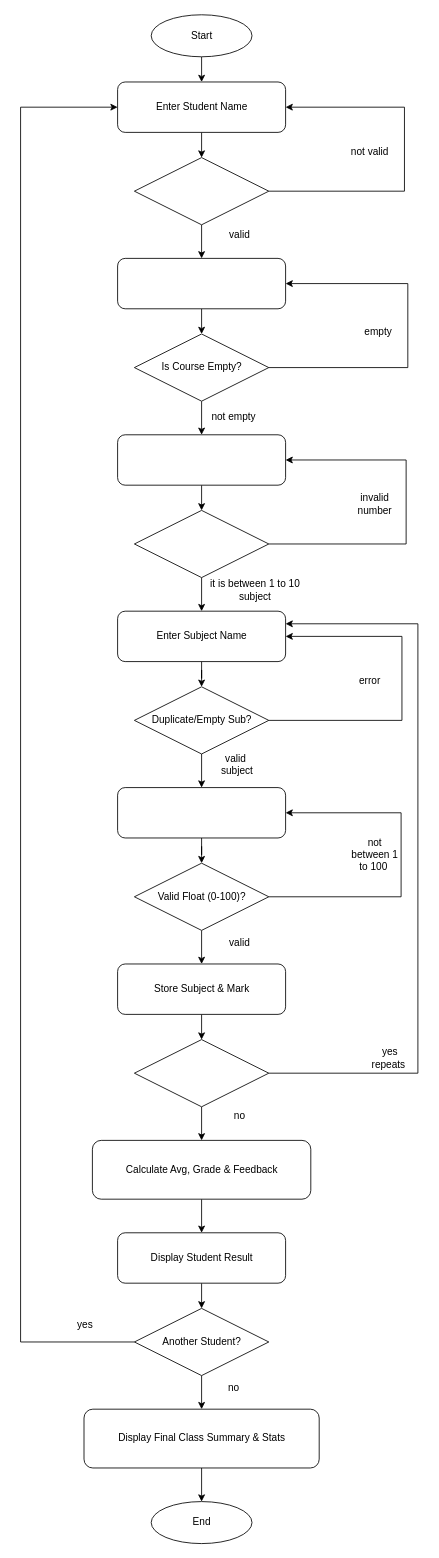
Some shapes in this 439 by 1558 pixel diagram are drawn without their labels. The shapes that lost their labels are listed below. From the top down, each one's centre as x and y in pixels, then its label:
pixel 201 191: Valid Alpha Name?
pixel 201 283: Enter Course Name
pixel 201 459: Enter Num Subjects
pixel 201 544: Valid Int (1-10)?
pixel 201 812: Enter Mark
pixel 201 1073: More Subjects?
